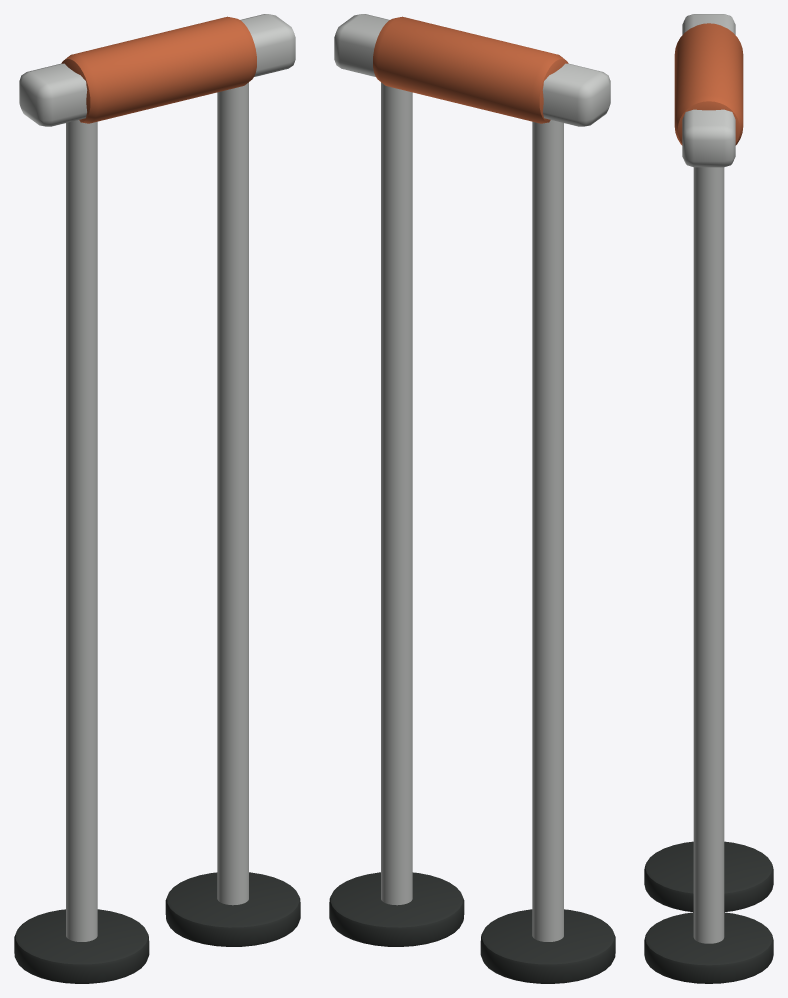
File: two_component_cartridge_gun_plunger.glb
The picture shows the model from 3 angles, left to right: view 1: azimuth 30°, elevation 25°; view 2: azimuth 150°, elevation 25°; view 3: azimuth 270°, elevation 25°; orthographic projection. The views are drawn at different scales.
Parts seen in each view (by area): view 1: two_component_cartridge_gun_plunger; view 2: two_component_cartridge_gun_plunger; view 3: two_component_cartridge_gun_plunger.
Boxes of the visible parts, x1,y1,x2,y2 form: two_component_cartridge_gun_plunger: [14, 14, 300, 983]; two_component_cartridge_gun_plunger: [329, 14, 615, 983]; two_component_cartridge_gun_plunger: [644, 14, 773, 983].
Size of the model in its own units: 0.078 by 0.254 by 0.034.
